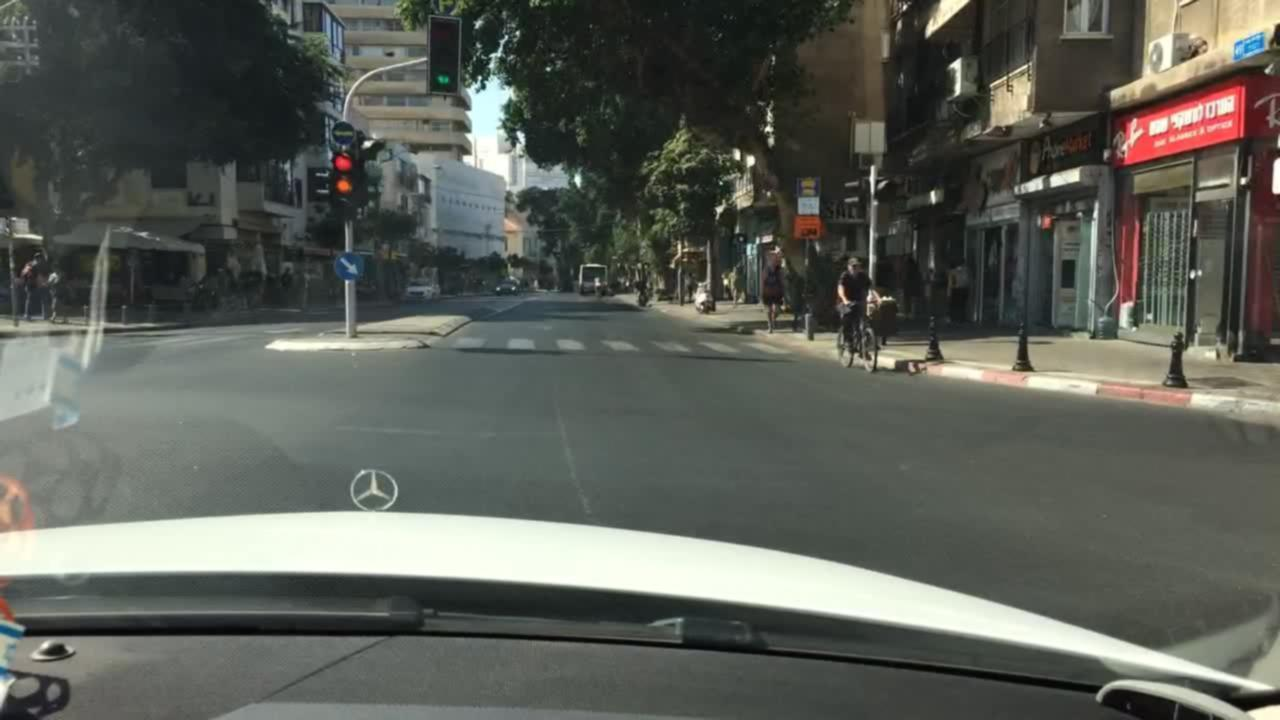Mercedes: (330, 444, 417, 519)
